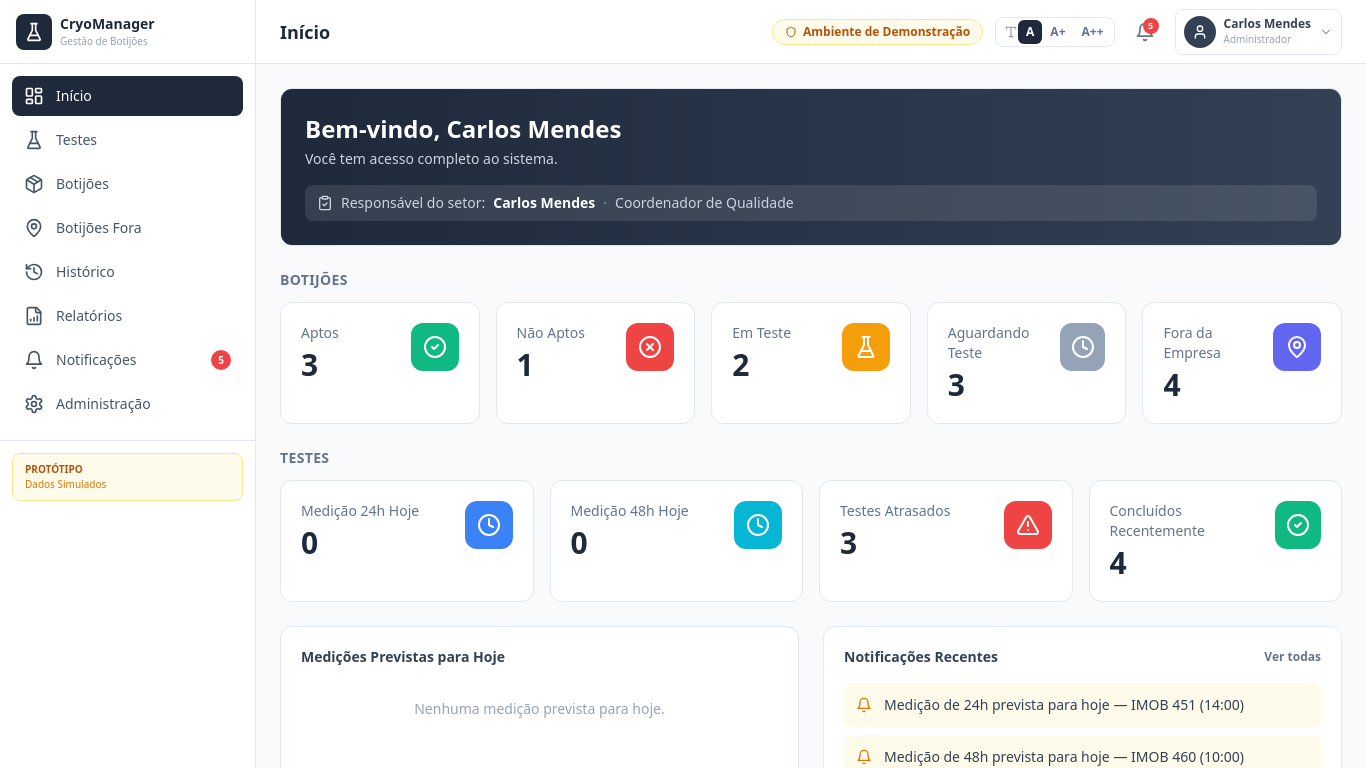
it: Navegação entre telas › navega para a tela de Testes
This screenshot has width=1366, height=768.
Click the button "Testes".
click(128, 140)  # box [12, 120, 243, 160]
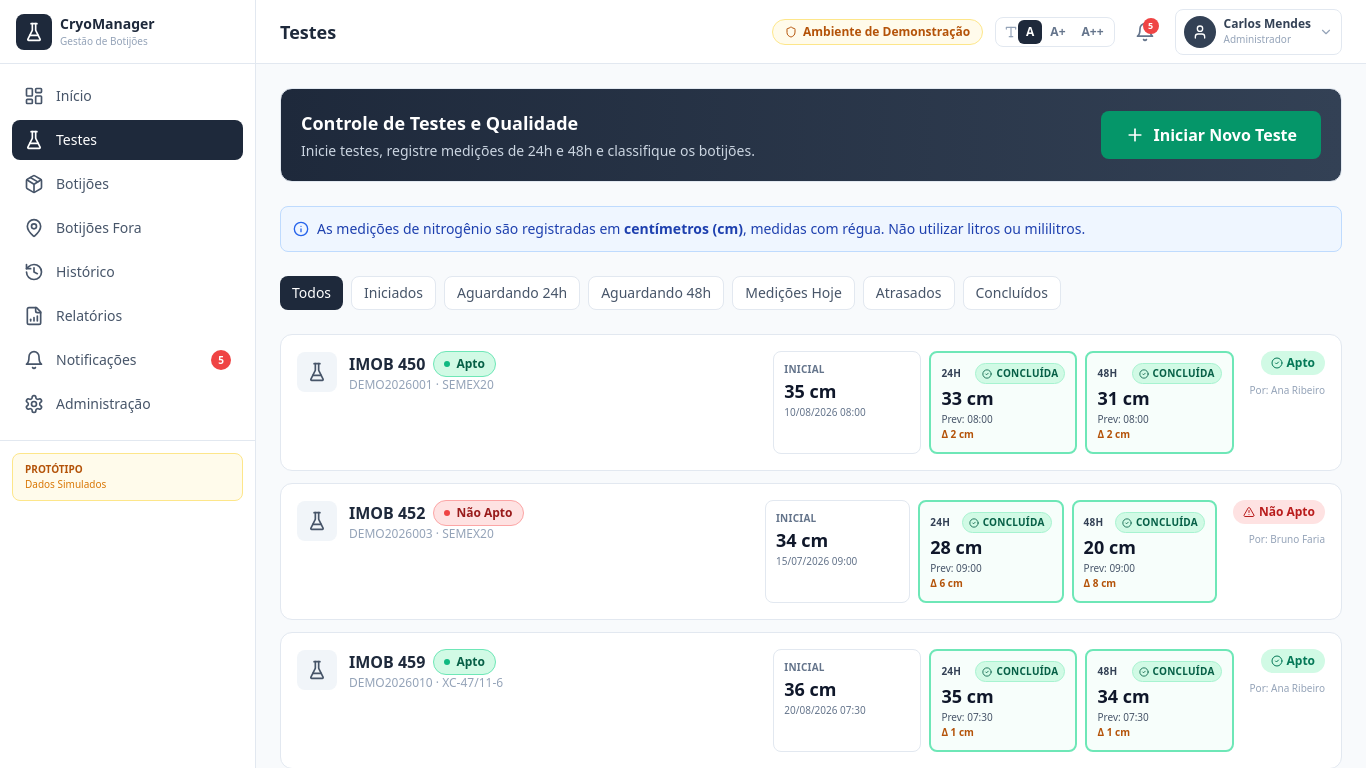
Expected: the heading "Controle de Testes e Qualidade" is shown, [301, 111, 578, 135]
